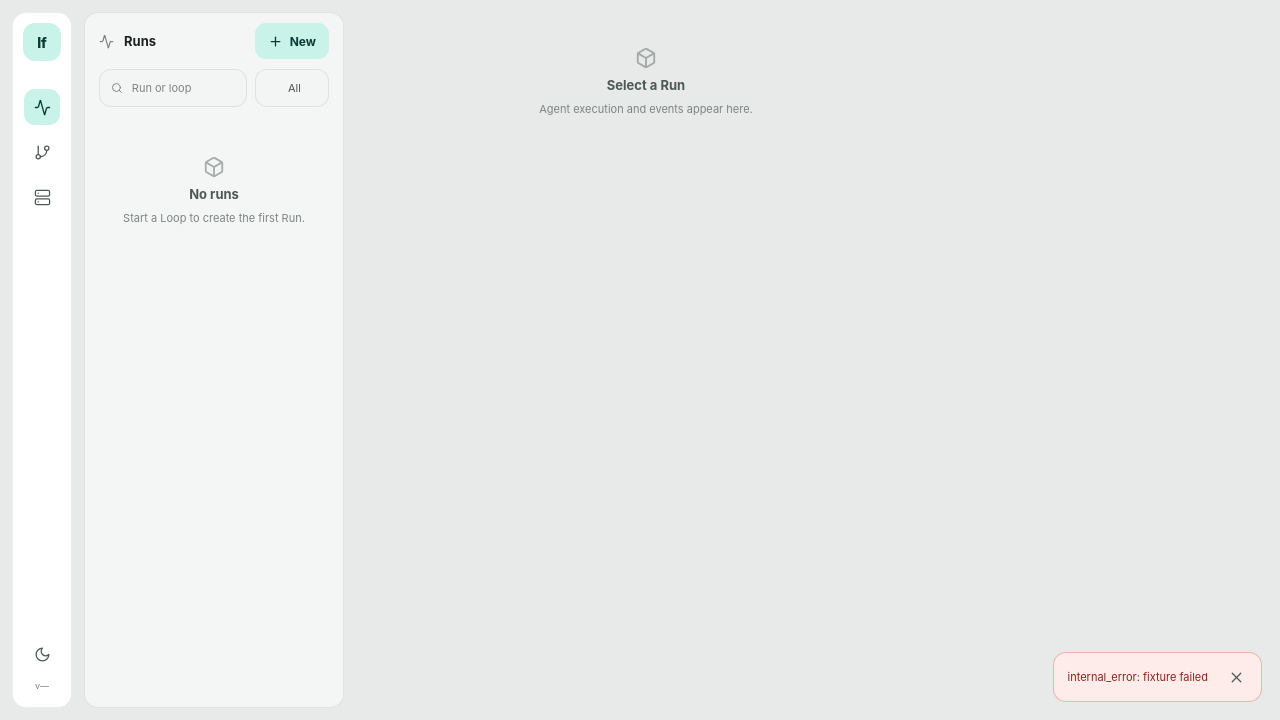
Test: shows API failures without replacing the workspace
Check: the message shows "fixture failed", box [1068, 670, 1208, 684]
Check: the heading "Runs" is shown, box [124, 32, 156, 49]
Click the button named "Dismiss error" at (1236, 677), box [1218, 659, 1254, 695]
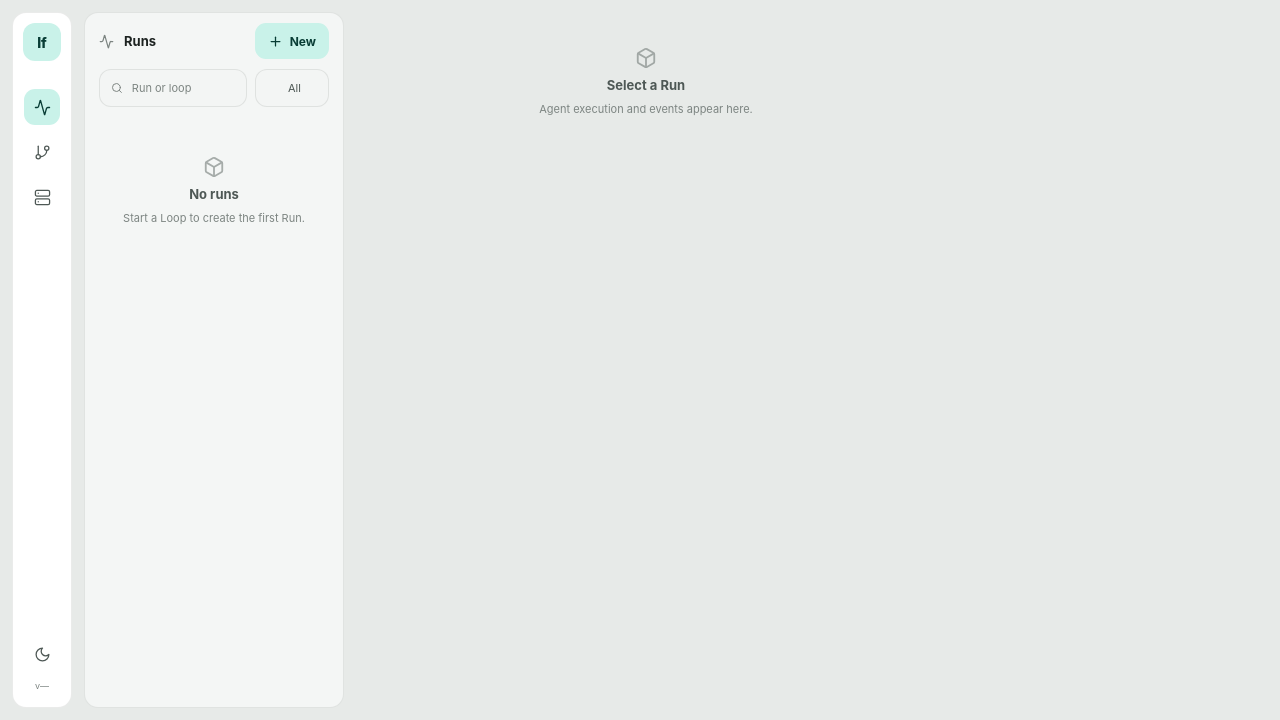
Check: the message "internal_error: fixture failed" is gone
